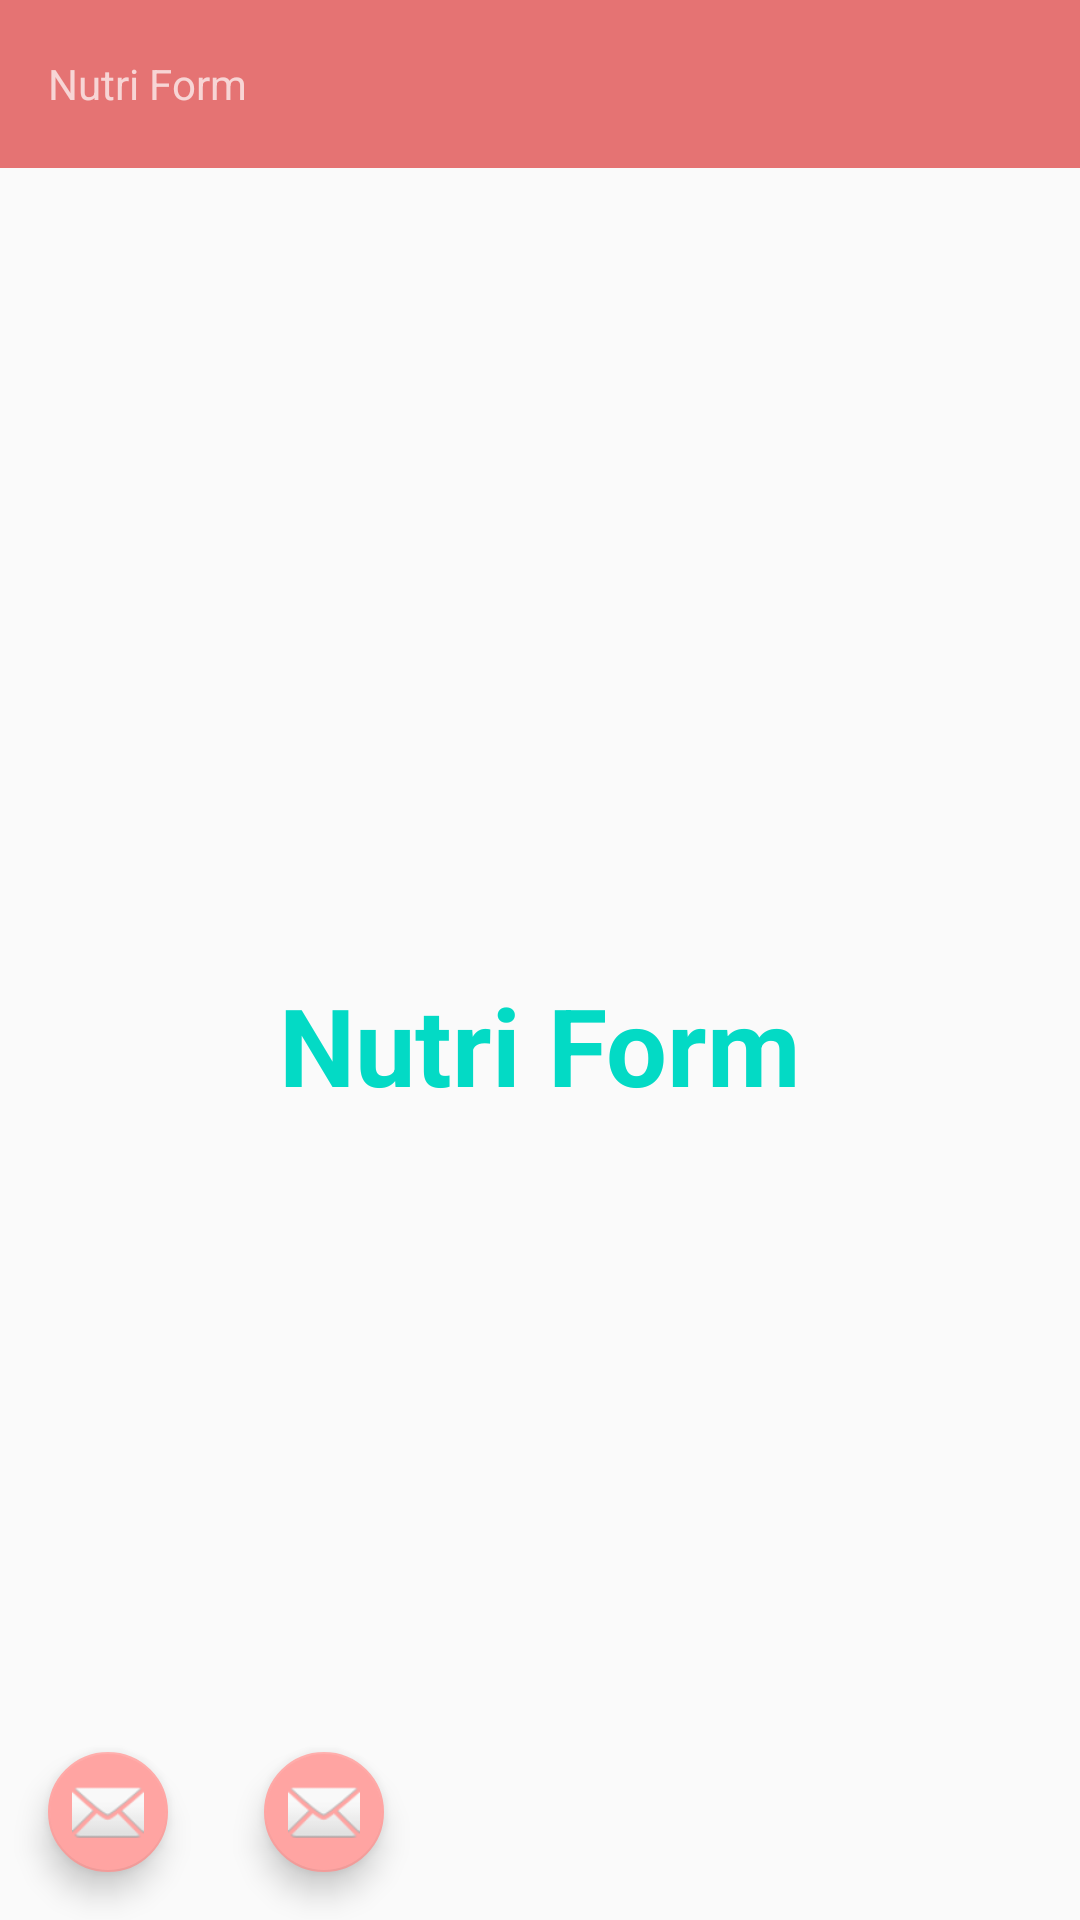

Icons on this 1080*1920 Android screen, each with the point to tap as [x,y]:
email: [108,1812], [324,1812]
